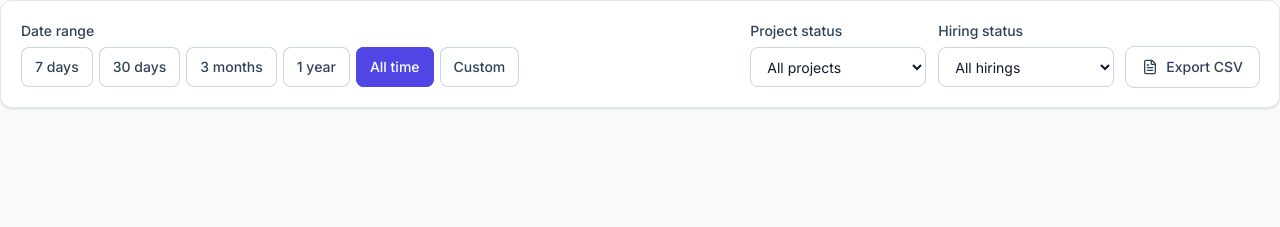
the filter bar › "Custom" only opens the date fields; nothing is requested until the range is applied
Click the button "Custom".
click(479, 67)  # box [440,47,519,87]
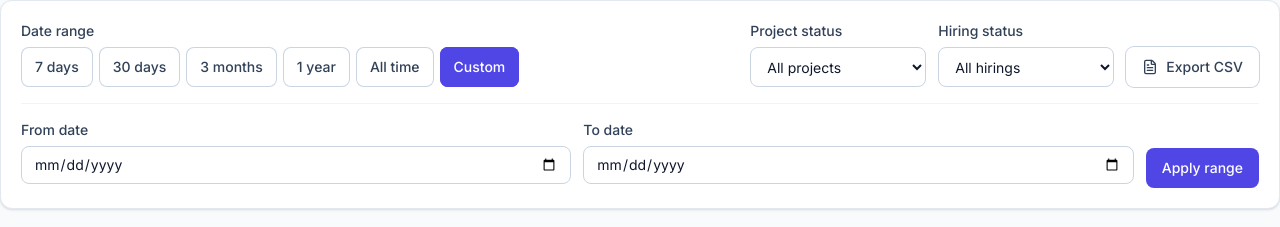
Now the date field labelled "From date" is shown, box [21,146,571,184]
Now the date field labelled "To date" is shown, box [583,146,1134,184]
